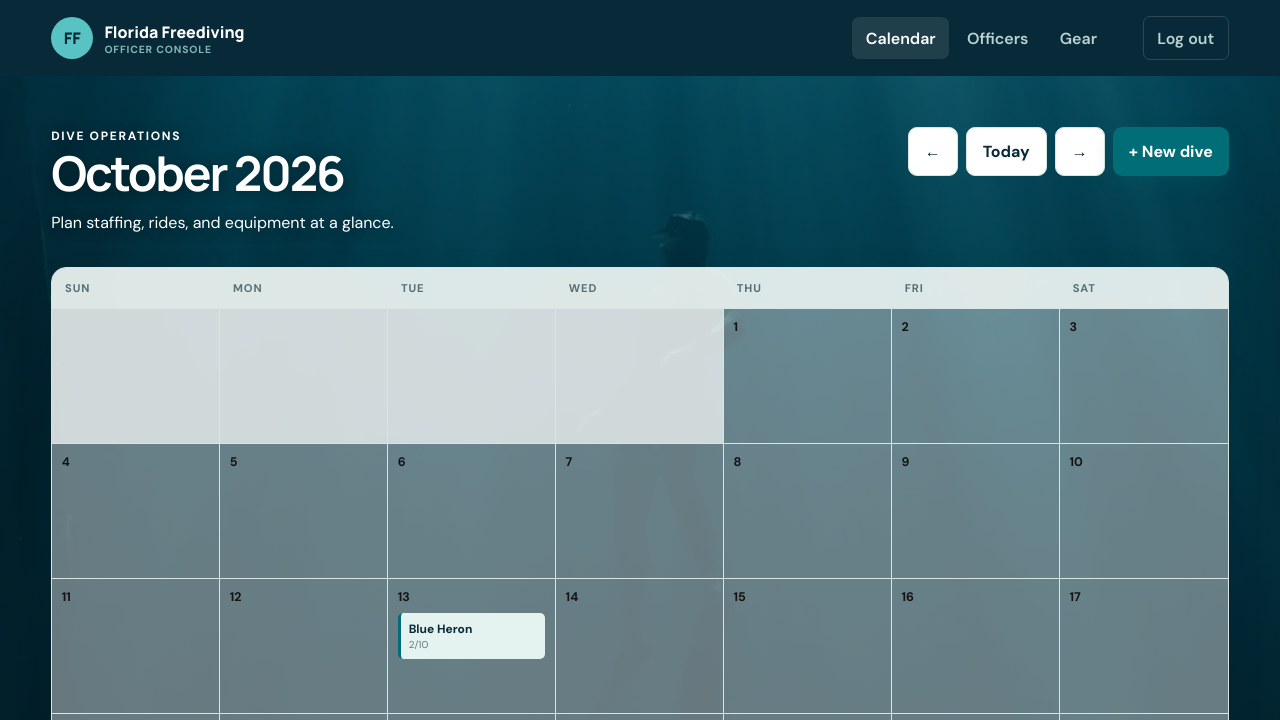
Test: Dashboard ride details › shows confirmed ride totals and each diver's contact and driving details
The width and height of the screenshot is (1280, 720).
Click the button "Blue Heron 2/10" at (472, 636), box [398,612,546,659]
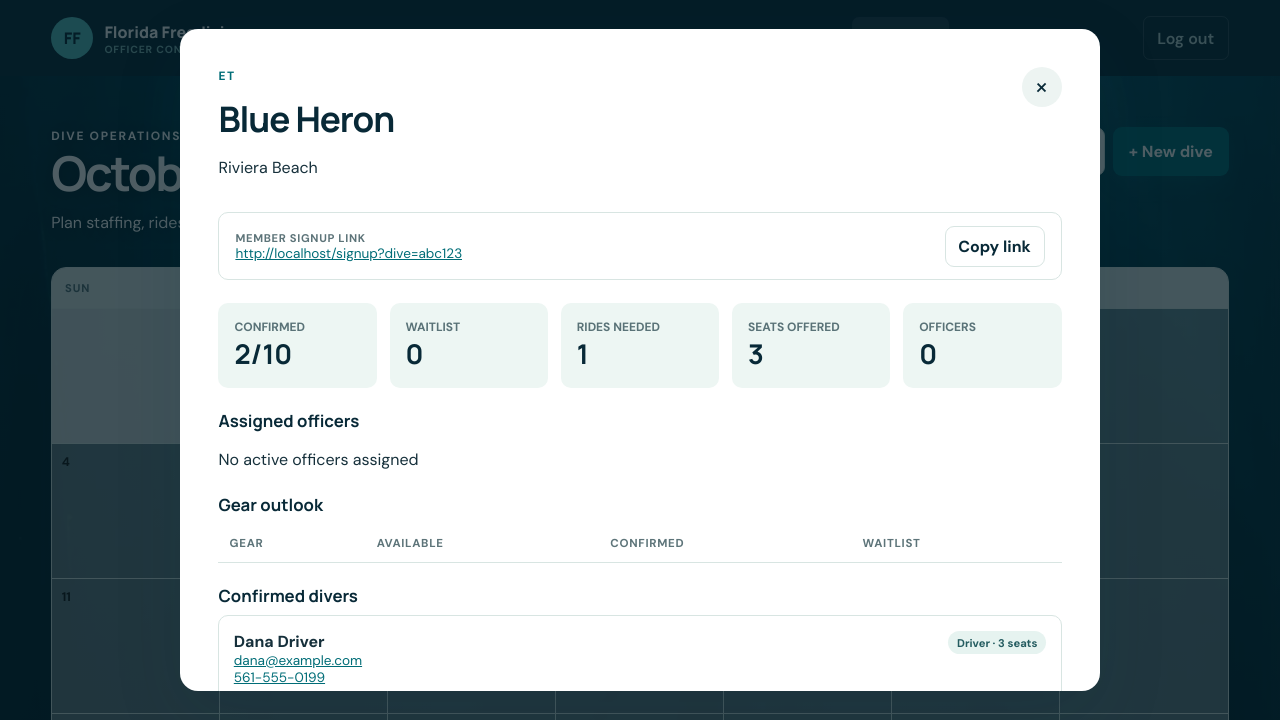
Check: the text "1" is shown, box [577,335,589,372]
Check: the text "3" is shown, box [748,335,764,372]
Check: the link "561-555-0199" is shown, box [234,669,325,686]
